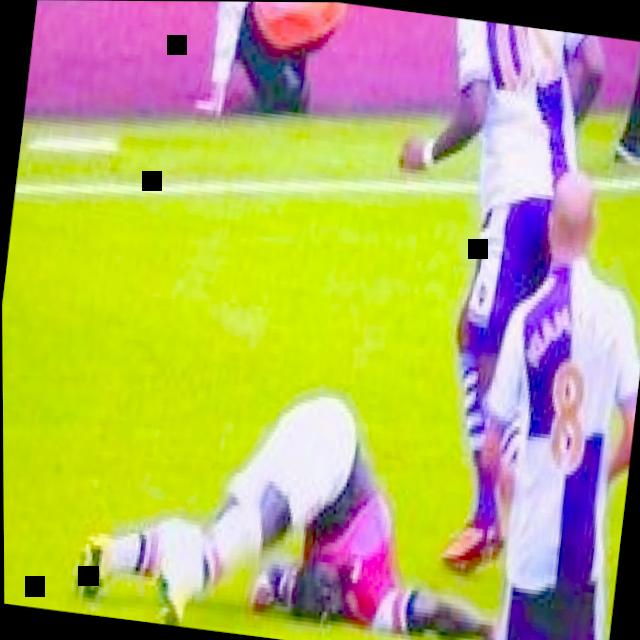Fall-Detected: (66, 346, 542, 640)
